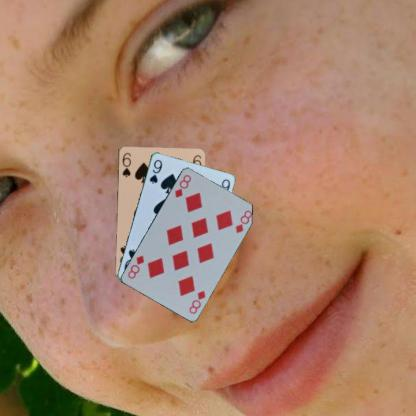6s: (119, 150, 132, 179)
8d: (186, 288, 206, 315), (172, 172, 192, 198)
9s: (146, 157, 164, 184)
